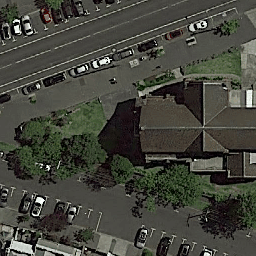car: (42, 72, 67, 89), (30, 194, 46, 217), (134, 227, 149, 250), (112, 47, 135, 61), (21, 14, 35, 37), (19, 192, 33, 215), (69, 63, 89, 79), (63, 204, 78, 225), (187, 19, 209, 33), (22, 81, 41, 97), (91, 55, 111, 70), (137, 38, 157, 53), (156, 236, 171, 256), (53, 201, 66, 222), (165, 28, 184, 41), (39, 6, 52, 24), (1, 20, 12, 41), (52, 8, 64, 24), (1, 186, 10, 207), (63, 1, 74, 18), (177, 243, 191, 256), (74, 1, 85, 17), (12, 18, 22, 35), (1, 92, 12, 104), (200, 248, 214, 256)
